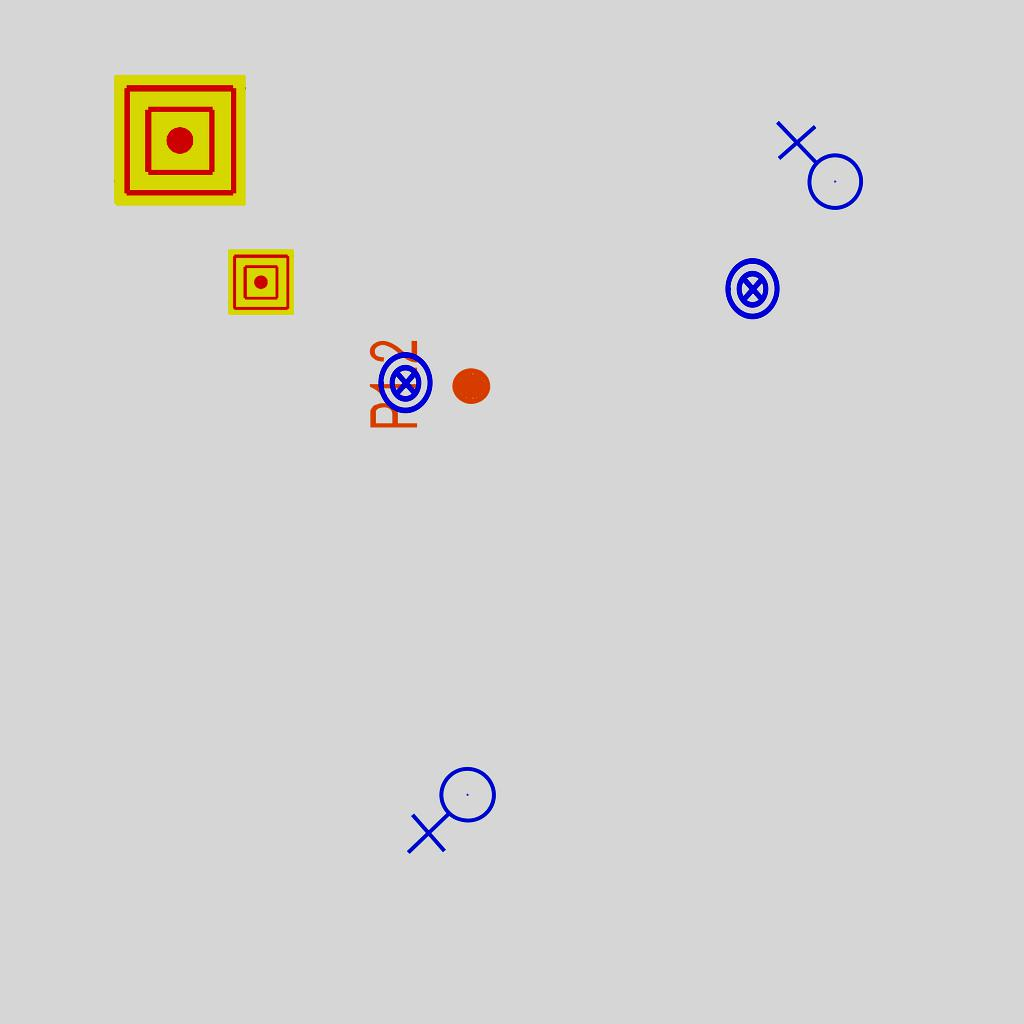Downlight_LED_Einbauleuchten_Flur: (366, 338, 494, 431)
Elektroanschluss_allgemein_230V_Geraeteanschlussdose_230V: (406, 765, 505, 859), (771, 120, 865, 219)
NAM-Nichtautomatischer_Melder: (114, 74, 246, 206), (228, 249, 294, 315)
Taster_beleuchtet: (720, 256, 786, 322), (373, 350, 439, 416)
